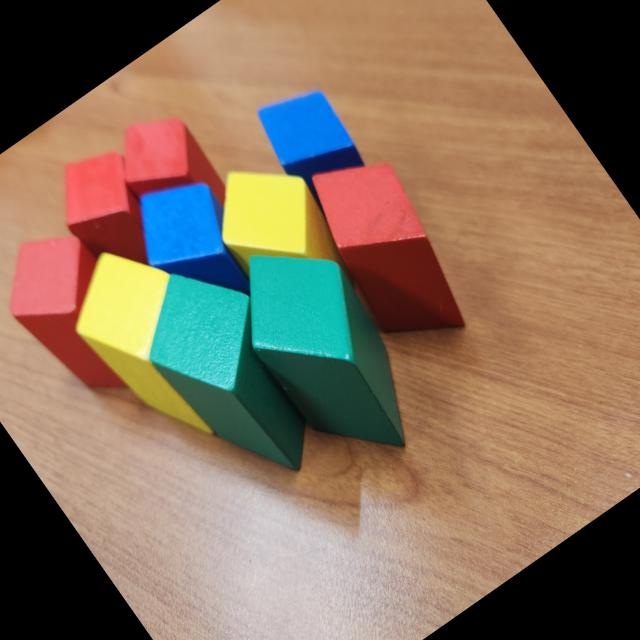blue: (112, 156, 278, 332), (245, 72, 372, 208)
green: (208, 212, 451, 486), (112, 240, 351, 507)
red: (284, 132, 496, 370), (0, 209, 169, 417), (96, 95, 250, 263), (35, 132, 183, 290)
yellow: (45, 224, 260, 466), (190, 138, 362, 320)
